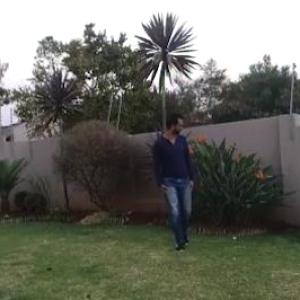follow: (150, 99, 203, 264)
